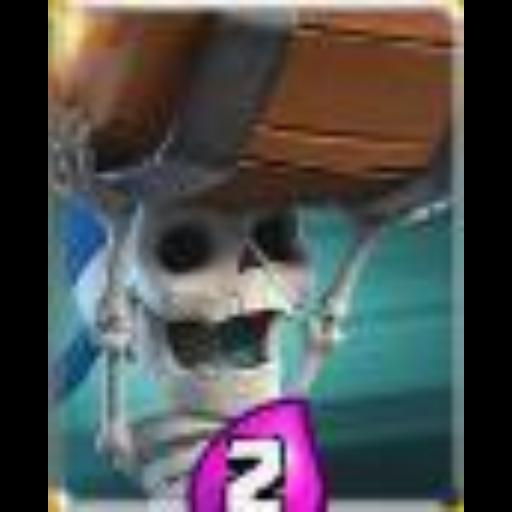wall-breakers: (48, 0, 464, 512)
